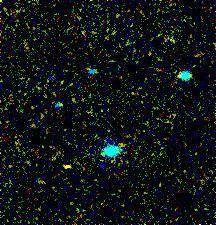star: (50, 153, 80, 183)
